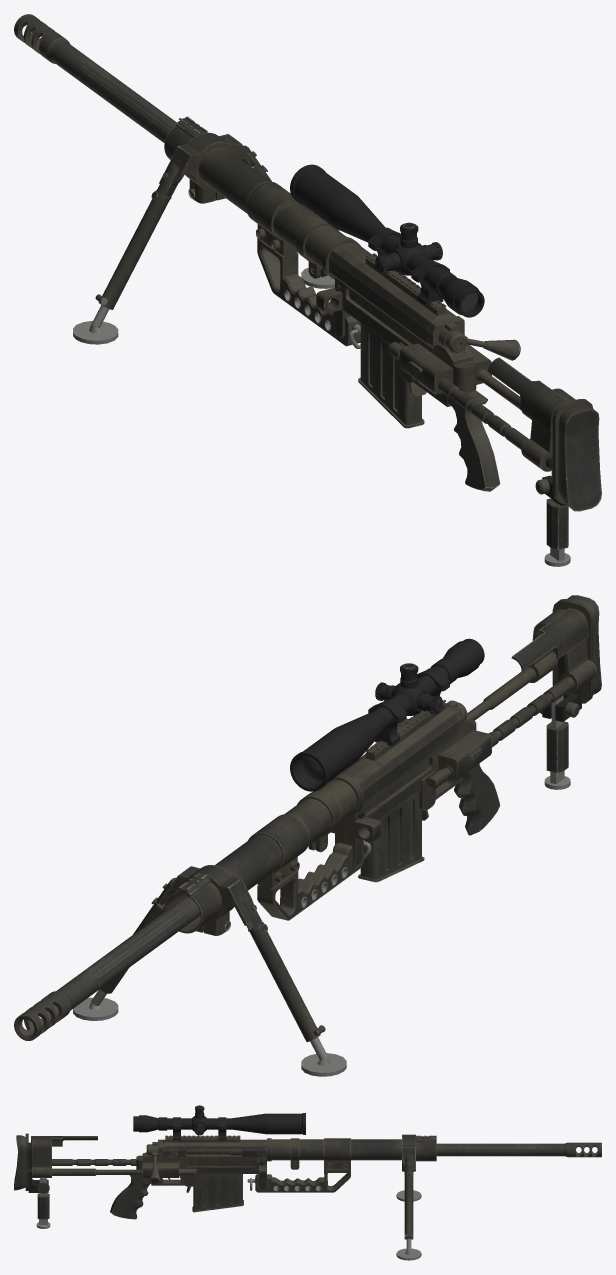
3 views of the same model, one above another, from view 1: azimuth 30°, elevation 25°; view 2: azimuth 150°, elevation 25°; view 3: azimuth 270°, elevation 25° (orthographic). The views are drawn at different scales.
Visible parts, largest first — view 1: Body, Scope, Magazine, Bolt; view 2: Body, Scope, Magazine; view 3: Body, Scope, Magazine, Bolt.
Part boxes in pixels (<box>): Body: <box>14,14,601,566</box>; Scope: <box>290,164,484,317</box>; Magazine: <box>358,323,426,428</box>; Bolt: <box>438,322,520,360</box>; Body: <box>14,595,601,1076</box>; Scope: <box>290,638,484,791</box>; Magazine: <box>358,791,428,882</box>; Body: <box>14,1133,601,1260</box>; Scope: <box>133,1105,305,1140</box>; Magazine: <box>186,1174,243,1212</box>; Bolt: <box>146,1142,241,1183</box>.
Size of the model in its own units: 0.3869 by 0.3138 by 1.4.
Materials: 1 (1 with a texture image).
